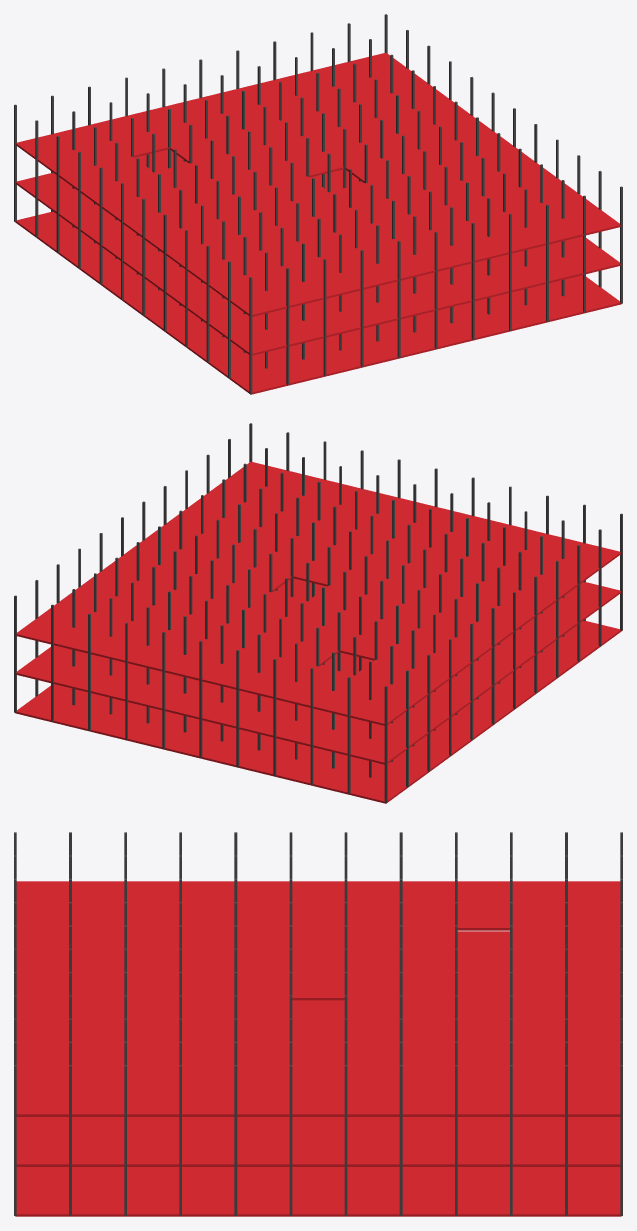
The model's file is world2.dae.
The picture shows the model from 3 angles, top to bottom: view 1: azimuth 30°, elevation 25°; view 2: azimuth 150°, elevation 25°; view 3: azimuth 270°, elevation 25°; orthographic projection. The views are drawn at different scales.
Visible parts, largest first — view 1: Cube.009, Cube.100, Cube.070, Cube.008, Cube, Cube.080, Cube.004, Cube.060, Cube.003, Cube.001, Cube.002, Cube.005 (+96 smaller); view 2: Cube.109, Cube.105, Cube.100, Cube.108, Cube.107, Cube.104, Cube.101, Cube.103, Cube.102, Cube.106, Cube.020, Cube.010 (+96 smaller); view 3: Cube.109, Cube.019, Cube.079, Cube.049, Cube.069, Cube.059, Cube.039, Cube.029, Cube.099, Cube.089, Cube.009, Cube.108 (+96 smaller).
Part boxes in pixels (x1,y1,x2,y2): Cube.009: (561, 171, 622, 313); Cube.100: (14, 96, 75, 237); Cube.070: (78, 142, 138, 284); Cube.008: (524, 197, 585, 322); Cube: (229, 262, 289, 394); Cube.080: (56, 127, 117, 269); Cube.004: (376, 219, 435, 358); Cube.060: (99, 158, 160, 300); Cube.003: (341, 226, 398, 367); Cube.001: (266, 259, 325, 385); Cube.002: (302, 234, 361, 376); Cube.005: (415, 231, 472, 349); Cube.109: (14, 580, 75, 722); Cube.105: (162, 616, 223, 758); Cube.100: (347, 670, 408, 803); Cube.108: (51, 589, 111, 731); Cube.107: (88, 598, 149, 740); Cube.104: (201, 627, 260, 767); Cube.101: (311, 652, 371, 794); Cube.103: (238, 635, 297, 776); Cube.102: (275, 643, 334, 785); Cube.106: (126, 616, 186, 749); Cube.020: (521, 536, 580, 678); Cube.010: (543, 520, 601, 661); Cube.109: (565, 1041, 622, 1216); Cube.019: (69, 1041, 126, 1216); Cube.079: (399, 1041, 456, 1216); Cube.049: (234, 1041, 290, 1216); Cube.069: (344, 1041, 401, 1216); Cube.059: (289, 1041, 345, 1216); Cube.039: (179, 1041, 235, 1216); Cube.029: (124, 1041, 180, 1216); Cube.099: (510, 1041, 566, 1216); Cube.089: (455, 1041, 511, 1216); Cube.009: (14, 1041, 70, 1216); Cube.108: (565, 1018, 622, 1190).
Size of the model in its own units: 10.05 by 11.05 by 3.02.
